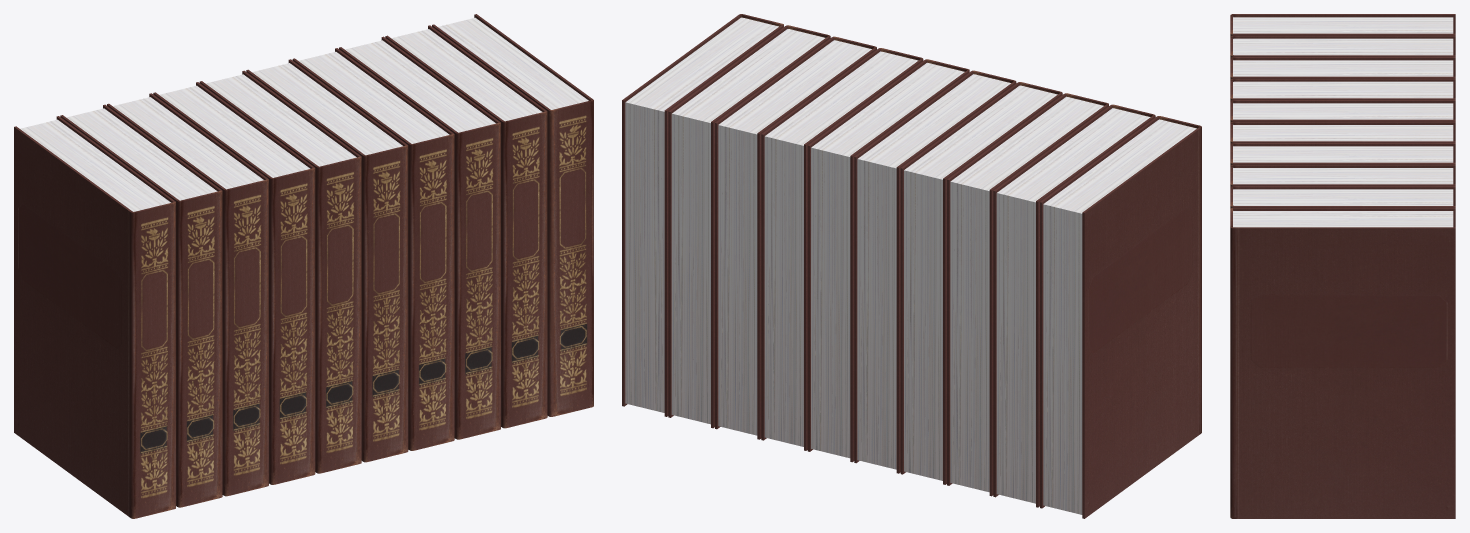
The model's file is RetroBooks01_4_10x.FBX.
3 renders of one model, left to right at view 1: azimuth 30°, elevation 25°; view 2: azimuth 150°, elevation 25°; view 3: azimuth 270°, elevation 25°, orthographic. The views are drawn at different scales.
Parts seen in each view (by area): view 1: RetroBooks01_4_10x; view 2: RetroBooks01_4_10x; view 3: RetroBooks01_4_10x.
Boxes of the visible parts, x1,y1,x2,y2 form: RetroBooks01_4_10x: (14, 14, 593, 518); RetroBooks01_4_10x: (622, 14, 1201, 518); RetroBooks01_4_10x: (1230, 14, 1455, 518).
Bounding box in the file's own units: 3.57 × 2.26 × 1.59.
